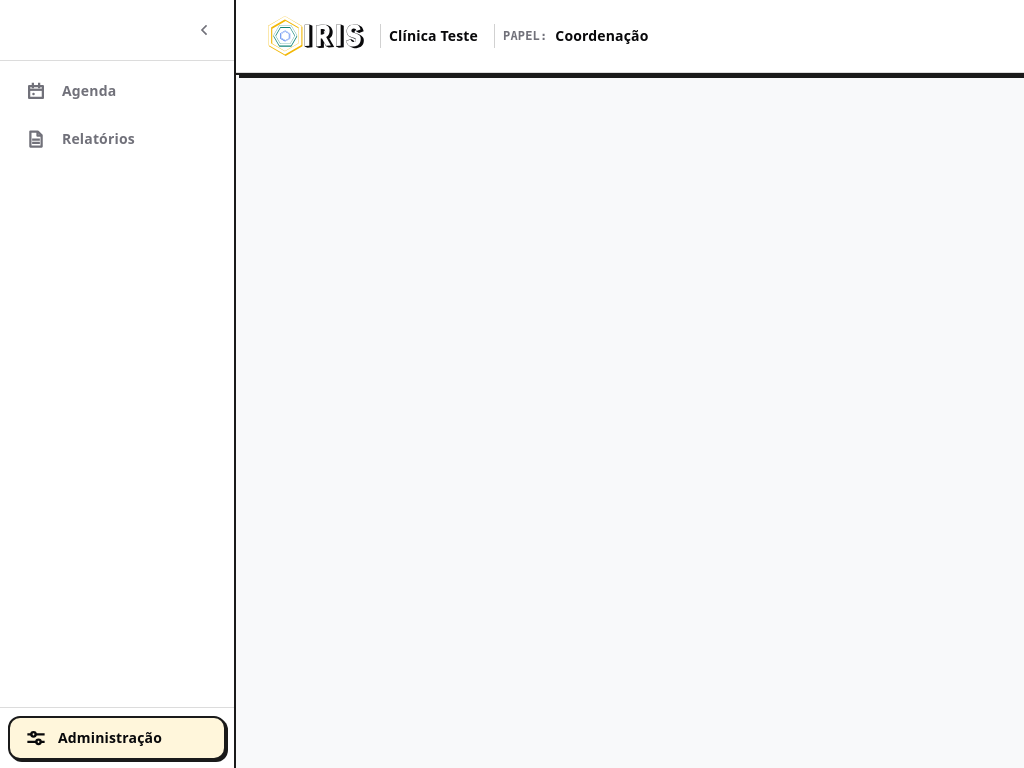
Test case: AppHeader › em /alertas-risco, acende o item de administração 'Alertas de risco' — e NÃO o de Validação
This screenshot has width=1024, height=768.
Click the button with aria-label "Menu do usuário — Administração".
click(117, 738)  # box [8,716,226,760]
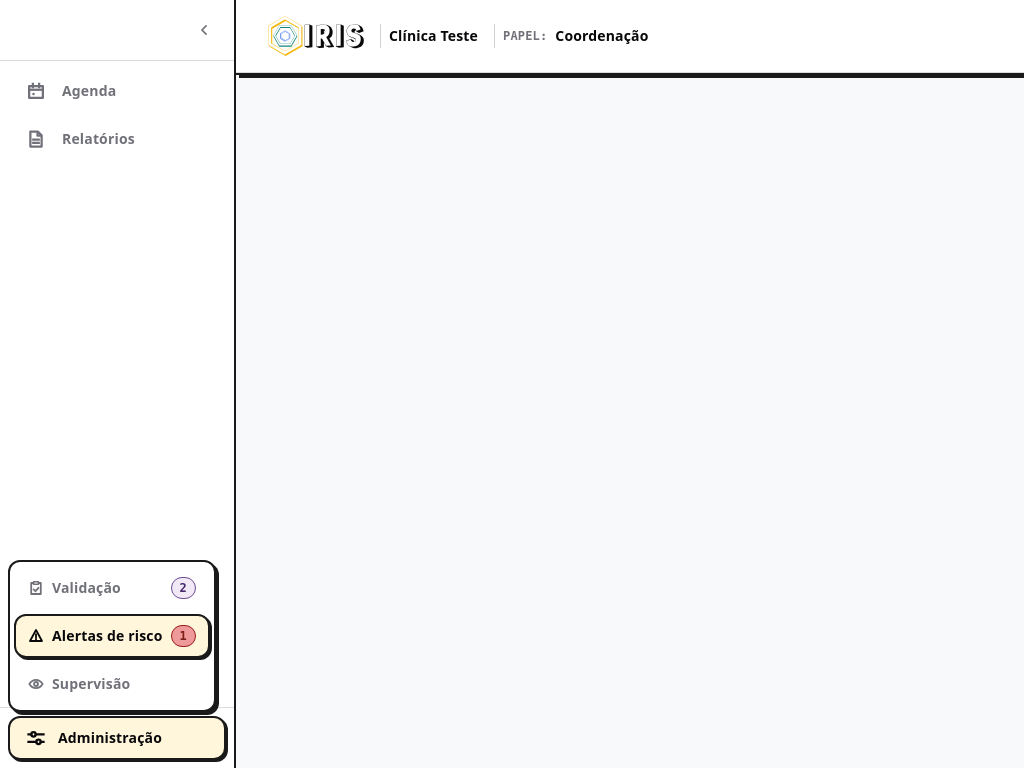
Check: the link "Alertas de risco 1" is shown, box [14,614,210,658]
Check: the link "Validação 2" is shown, box [28,577,196,599]
